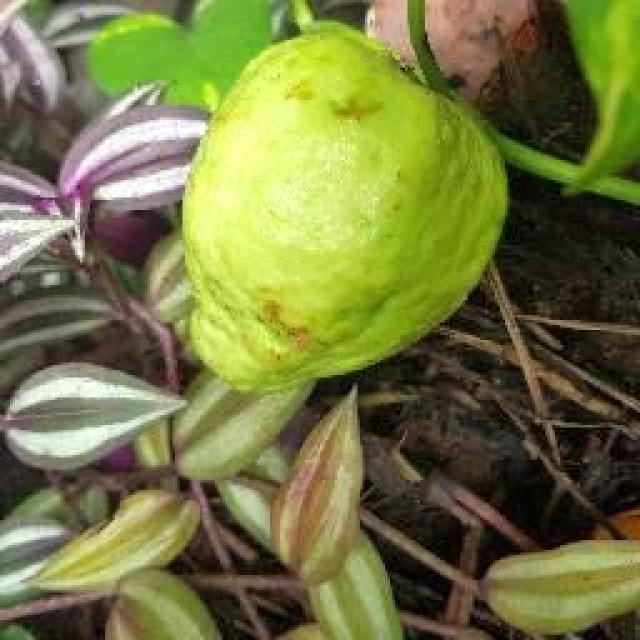Good_Guava: (180, 20, 510, 402)
